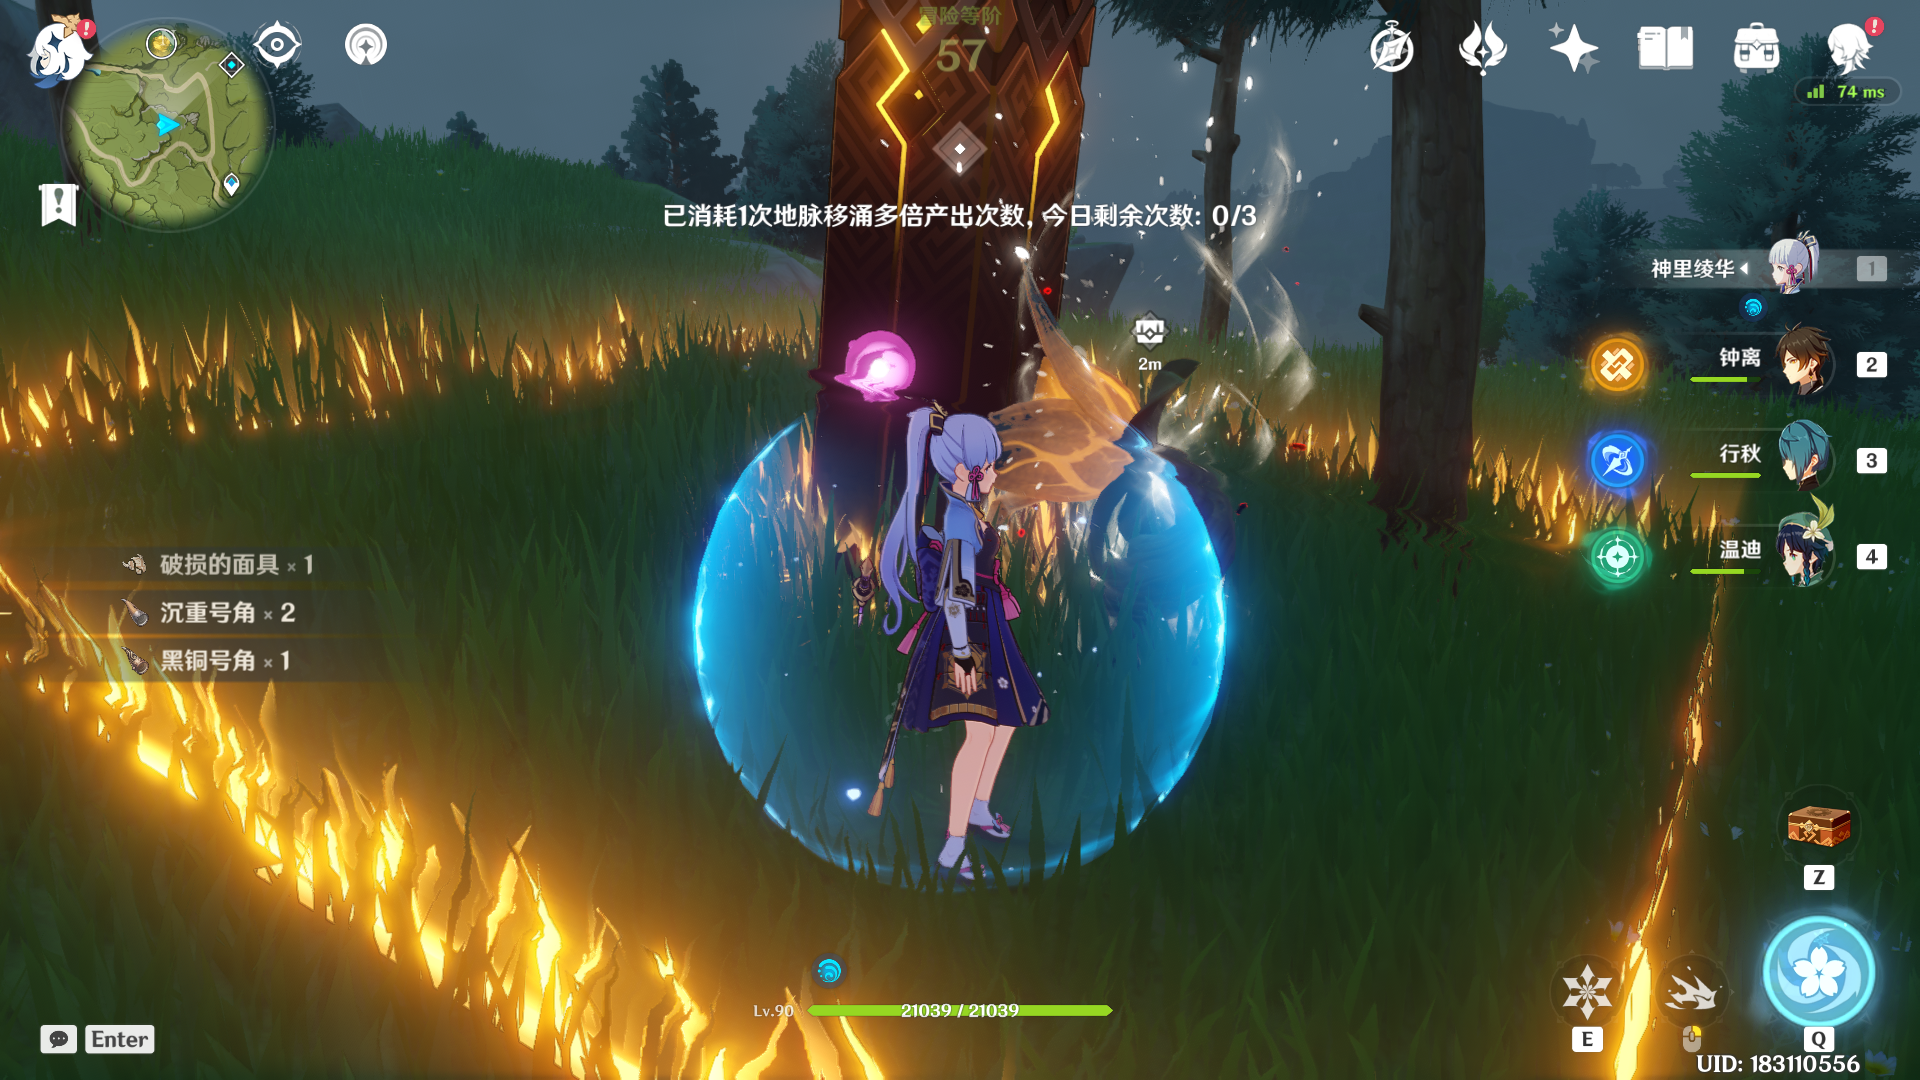character: (779, 392, 1120, 895)
